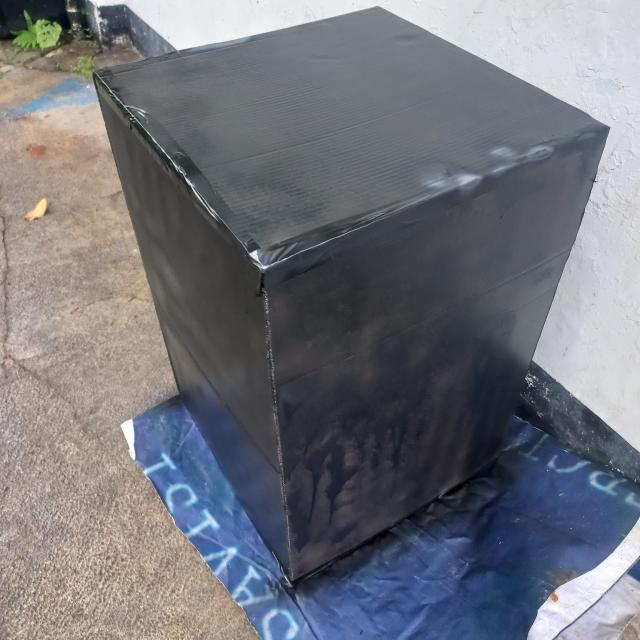obstacle: (95, 4, 616, 586)
